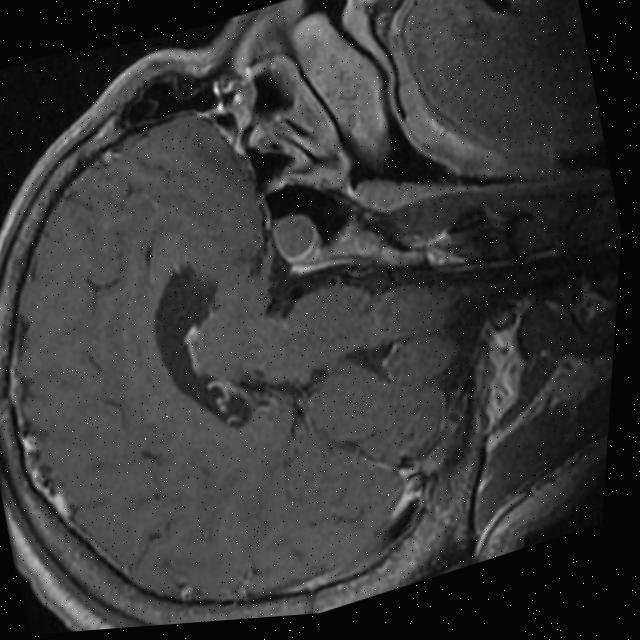Pituitary: (266, 206, 323, 266)
